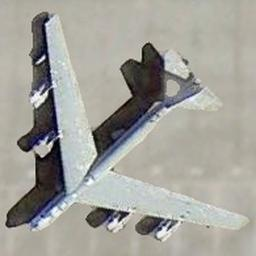Airplane: (5, 10, 250, 242)
